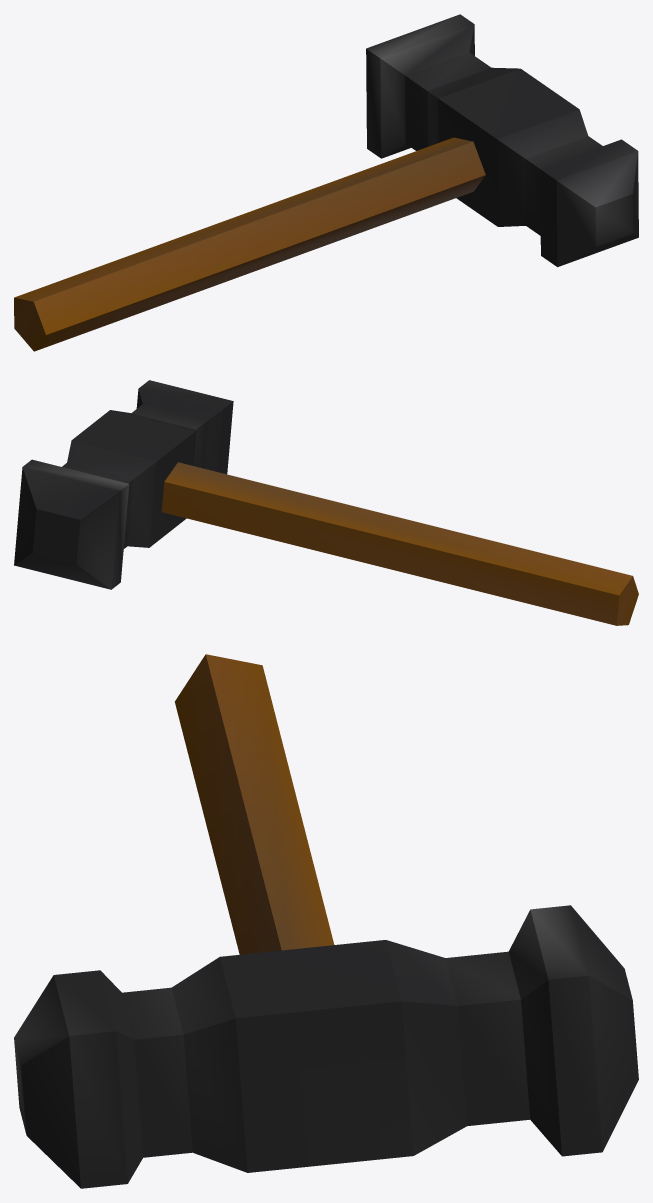
File: Martelo.fbx
3 renders of one model, top to bottom at view 1: azimuth 30°, elevation 25°; view 2: azimuth 150°, elevation 25°; view 3: azimuth 270°, elevation 25°, orthographic. The views are drawn at different scales.
Parts seen in each view (by area): view 1: Martelo; view 2: Martelo; view 3: Martelo.
Part boxes in pixels (left/top/right/bottom): Martelo: left=14, top=14, right=638, bottom=351; Martelo: left=14, top=380, right=638, bottom=625; Martelo: left=14, top=654, right=638, bottom=1188.
Bounding box in the file's own units: 58.59 × 12.01 × 33.69.
